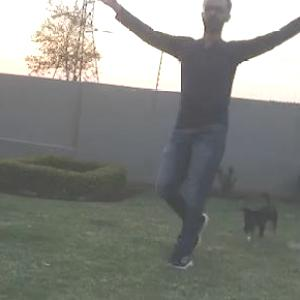takeoff: (95, 0, 298, 256)
